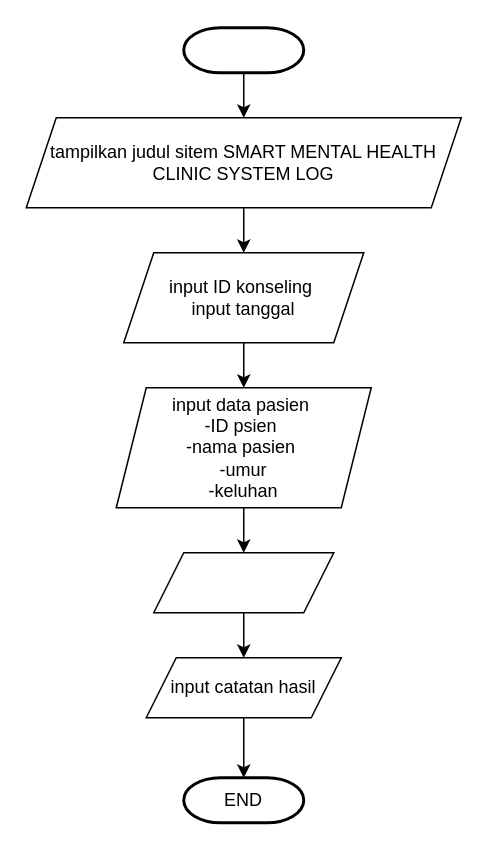
This 488x849 diagram has some shape labels left out. The shapes that lost their labels are listed below. From the top down, each one's box as (x1, y1, x2, y2) in pixels, then its label:
(182, 26, 304, 74): START
(152, 551, 334, 613): konsultasi -keluhan
